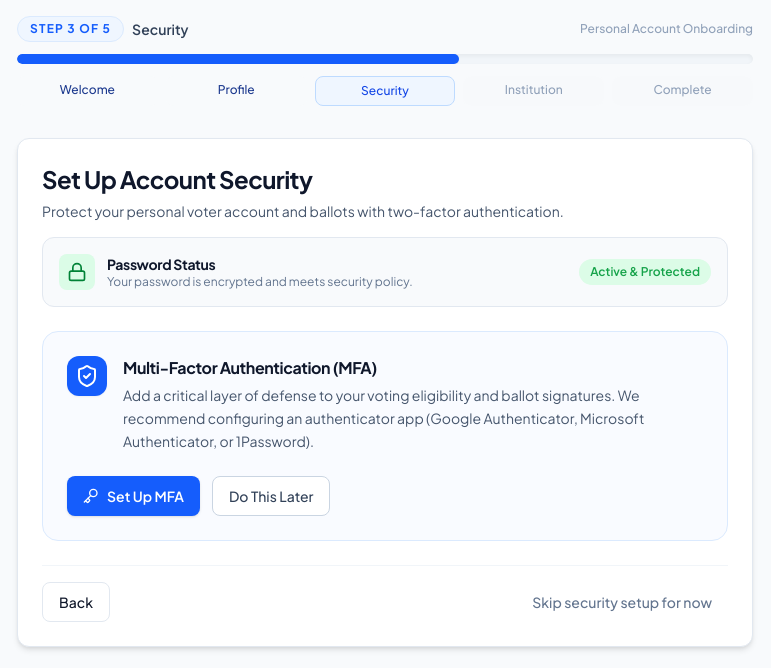
Test: PersonalOnboardingPage Multi-Step Wizard › allows skipping MFA in Step 3 via 'Do This Later'
Check: the heading "Set Up Account Security" is shown, box [42,164,312,194]
Click the button "Do This Later" at (271, 496), box [212,476,330,516]
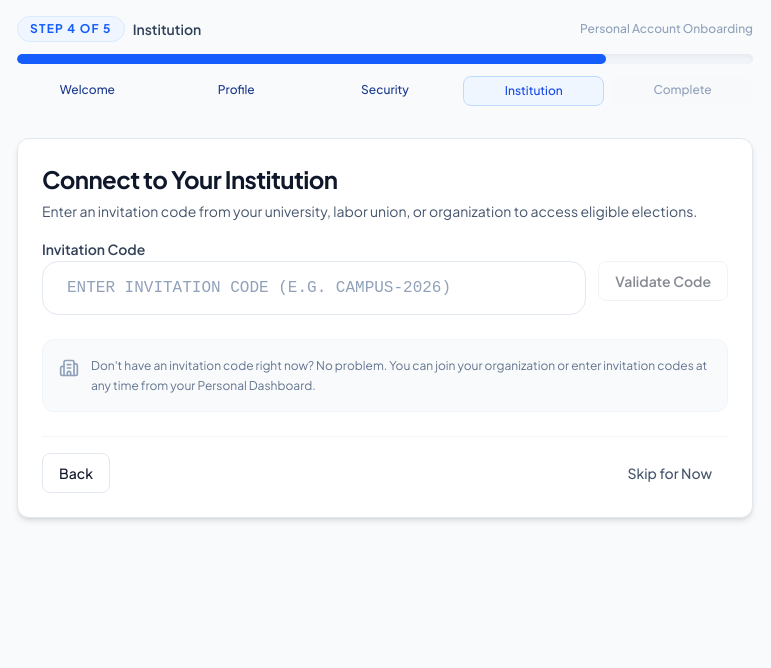
Check: the heading "Connect to Your Institution" is shown, box [42,164,337,194]
